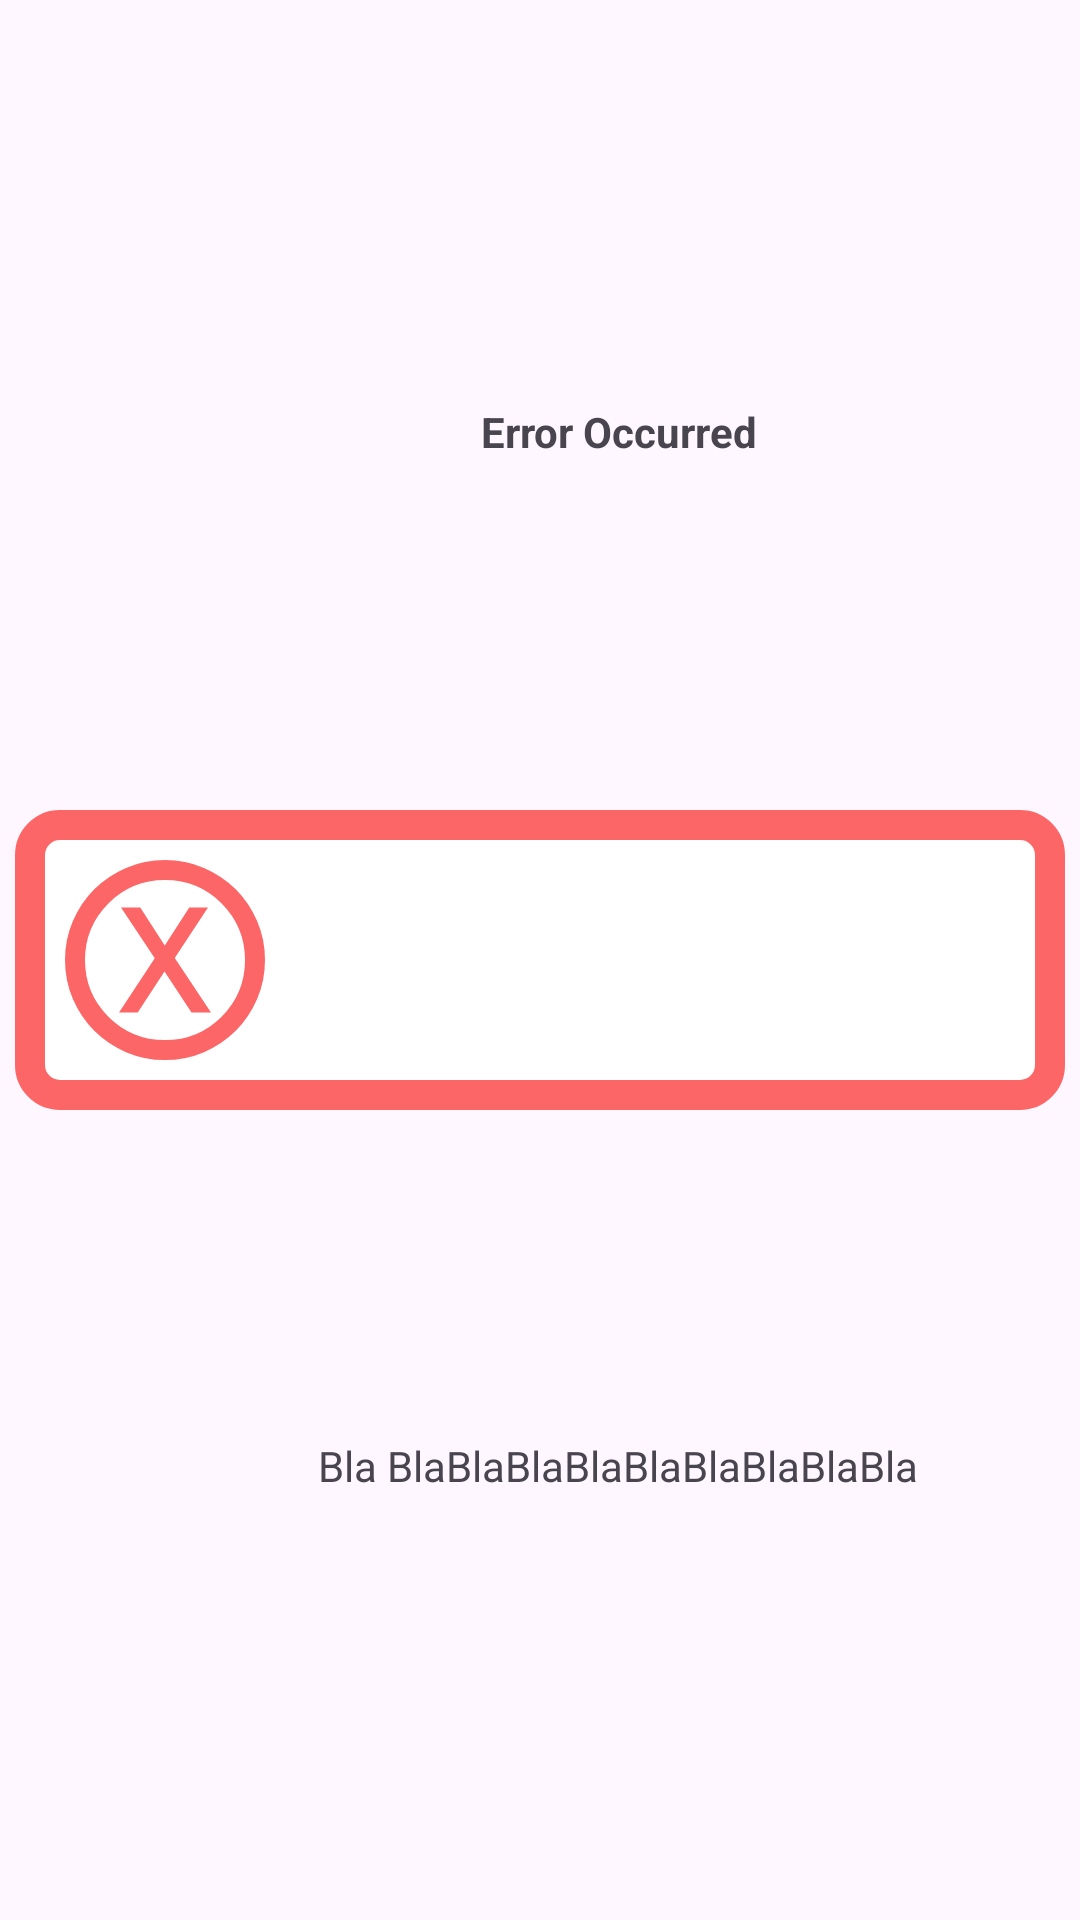

Locate icon controls on the screen. Image size 1080x1920, boxes as (x1, y1, x2, y2).
error: (45, 840, 285, 1080)
